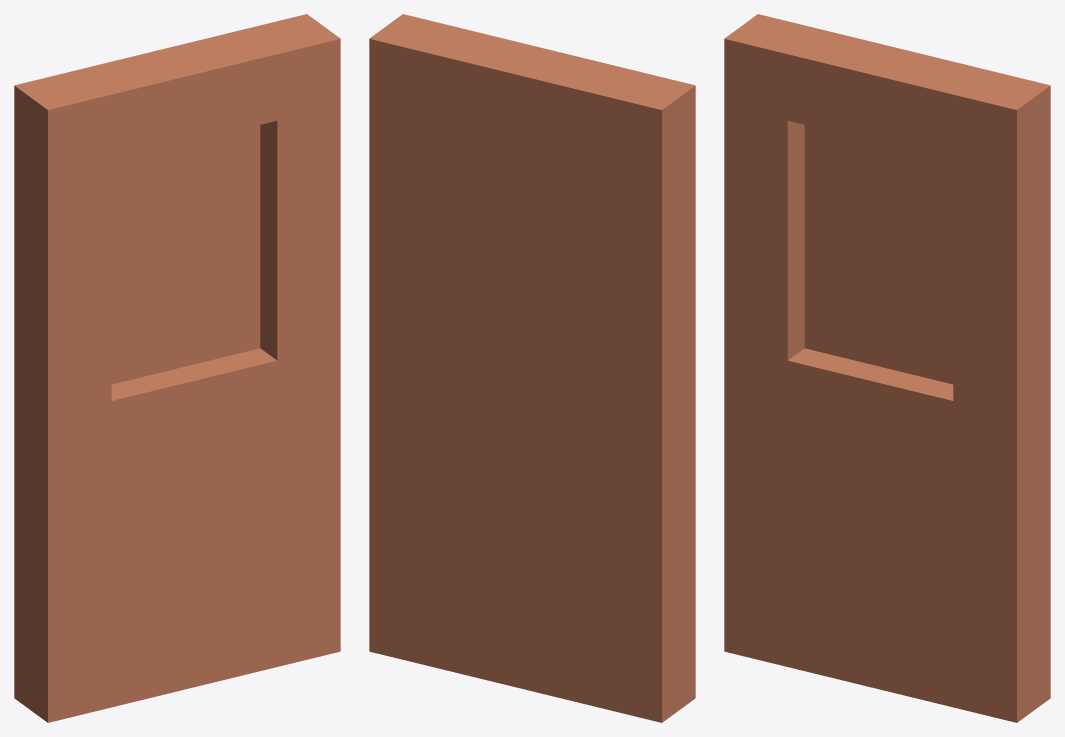
Rendered from door-brown-window.obj.
The picture shows the model from 3 angles, left to right: view 1: azimuth 30°, elevation 25°; view 2: azimuth 150°, elevation 25°; view 3: azimuth 330°, elevation 25°; orthographic projection.
Bounding box in the file's own units: 0.25 × 0.5 × 0.05.
